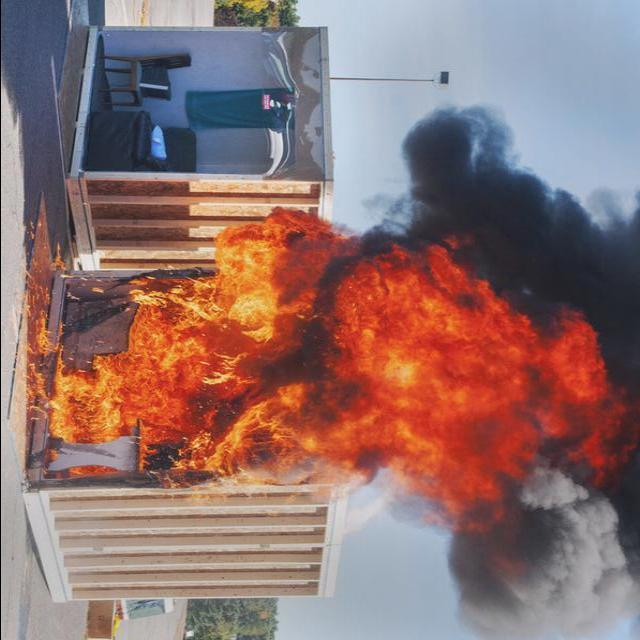Fire: (38, 212, 614, 502)
